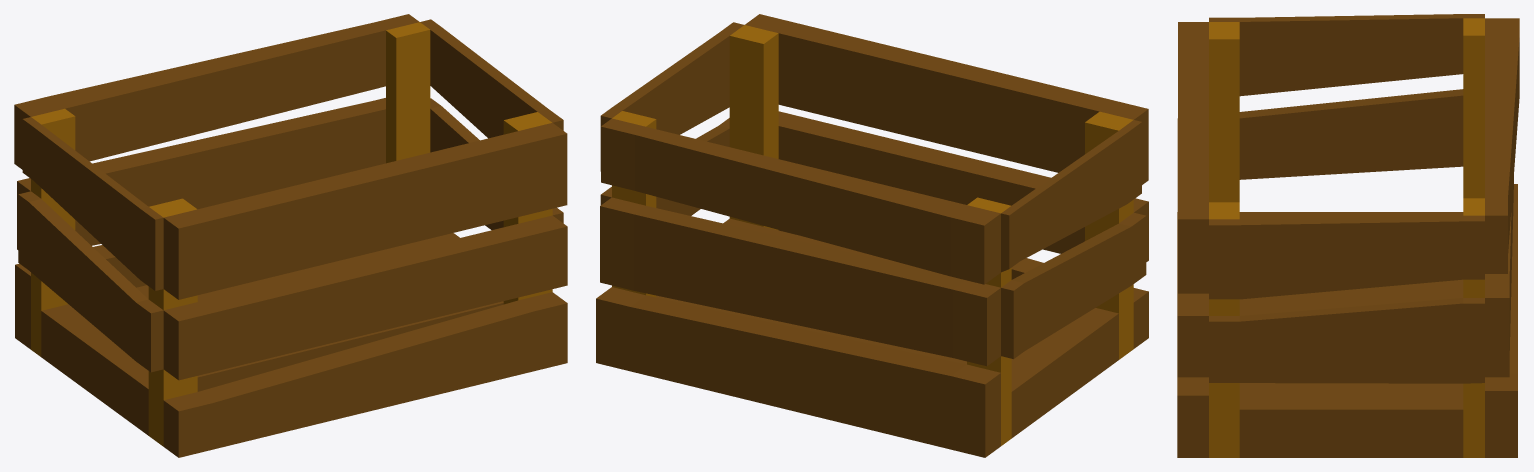
Rendered from kotak.fbx.
The picture shows the model from 3 angles, left to right: view 1: azimuth 30°, elevation 25°; view 2: azimuth 150°, elevation 25°; view 3: azimuth 270°, elevation 25°; orthographic projection. The views are drawn at different scales.
Parts seen in each view (by area): view 1: basket; view 2: basket; view 3: basket.
Part boxes in pixels (box(x1,y1,x2,y2)): basket: box(14, 14, 567, 457); basket: box(596, 14, 1148, 457); basket: box(1177, 14, 1519, 457).
Size of the model in its own units: 73.17 by 50.49 by 39.43.
Materials: 1 (1 with a texture image).
